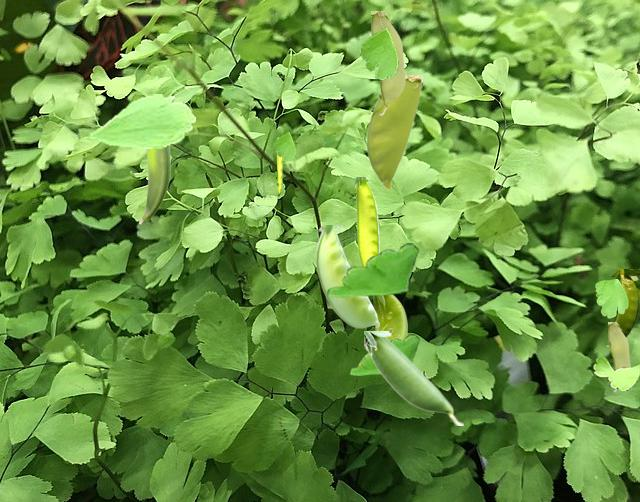pea: (364, 331, 462, 424), (315, 225, 378, 333), (366, 75, 421, 188), (371, 11, 404, 114), (357, 296, 406, 365), (605, 269, 638, 347), (138, 147, 171, 223), (355, 177, 378, 264), (608, 322, 629, 390), (277, 137, 283, 195)
